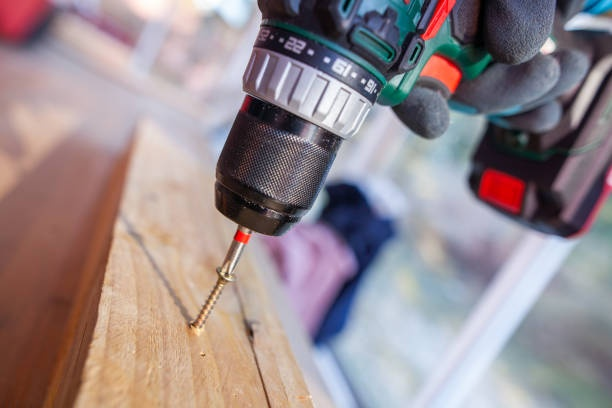driller: (191, 1, 456, 353)
